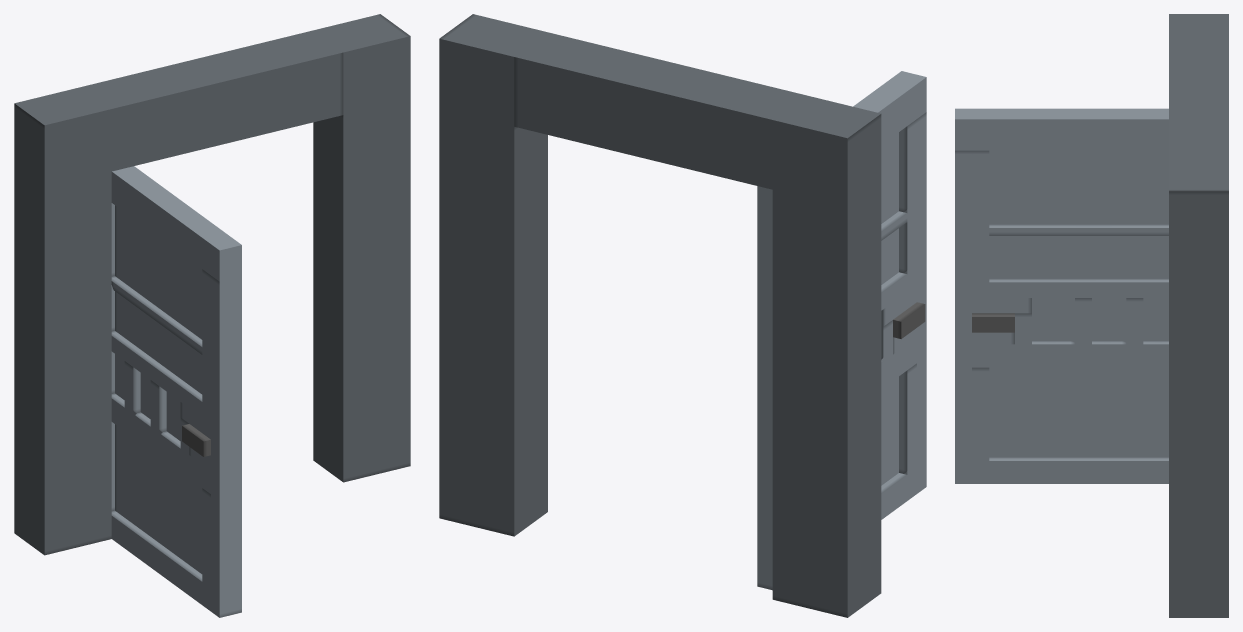
File: dzwi-dom_01.dae
The picture shows the model from 3 angles, left to right: view 1: azimuth 30°, elevation 25°; view 2: azimuth 150°, elevation 25°; view 3: azimuth 270°, elevation 25°; orthographic projection. The views are drawn at different scales.
Parts seen in each view (by area): view 1: Content; view 2: Content; view 3: Content.
Boxes of the visible parts, bbox=[...] form: Content: bbox=[14, 14, 410, 617]; Content: bbox=[439, 14, 926, 617]; Content: bbox=[955, 14, 1228, 617].
Size of the model in its own units: 49 by 55 by 32.
1 material, 1 textured.
